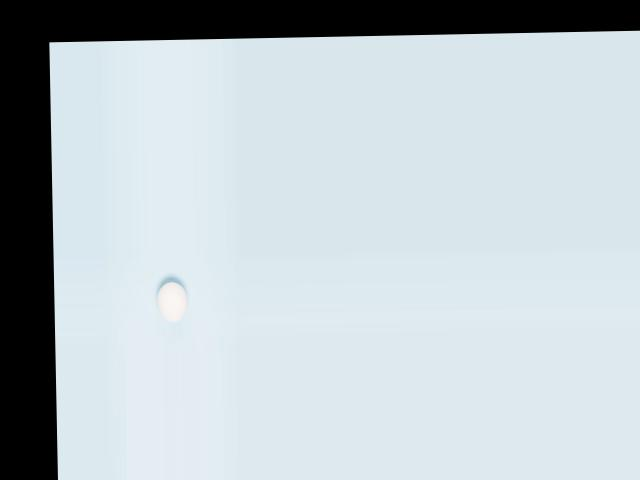egg: (156, 281, 187, 322)
